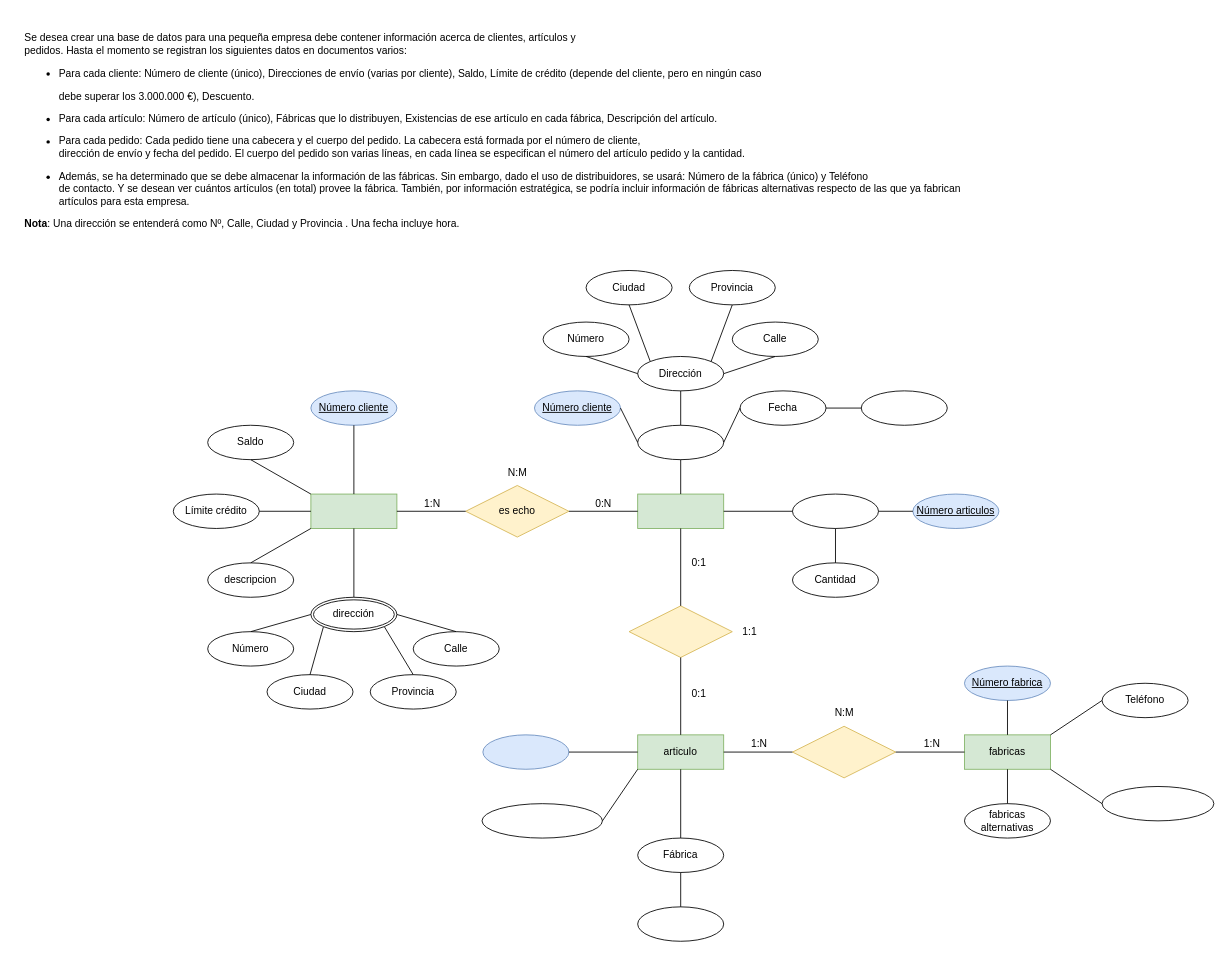
The diagram is 1229 pixels wide and 956 high, and some of its shapes have lost their labels. Here are the shapes that lost their labels. From the top down, the centre of each, then its label:
At pixel 903 407: "Hora".
At pixel 680 442: "Cabecera".
At pixel 353 510: "cliente".
At pixel 680 510: "pedidos".
At pixel 835 510: "Cuerpo".
At pixel 680 631: "se incluye".
At pixel 525 751: "Número articulo".
At pixel 844 751: "se fabrica".
At pixel 541 820: "Descripción del articulo".
At pixel 1157 803: "Artículos provee-idos".
At pixel 680 923: "Existencias".
